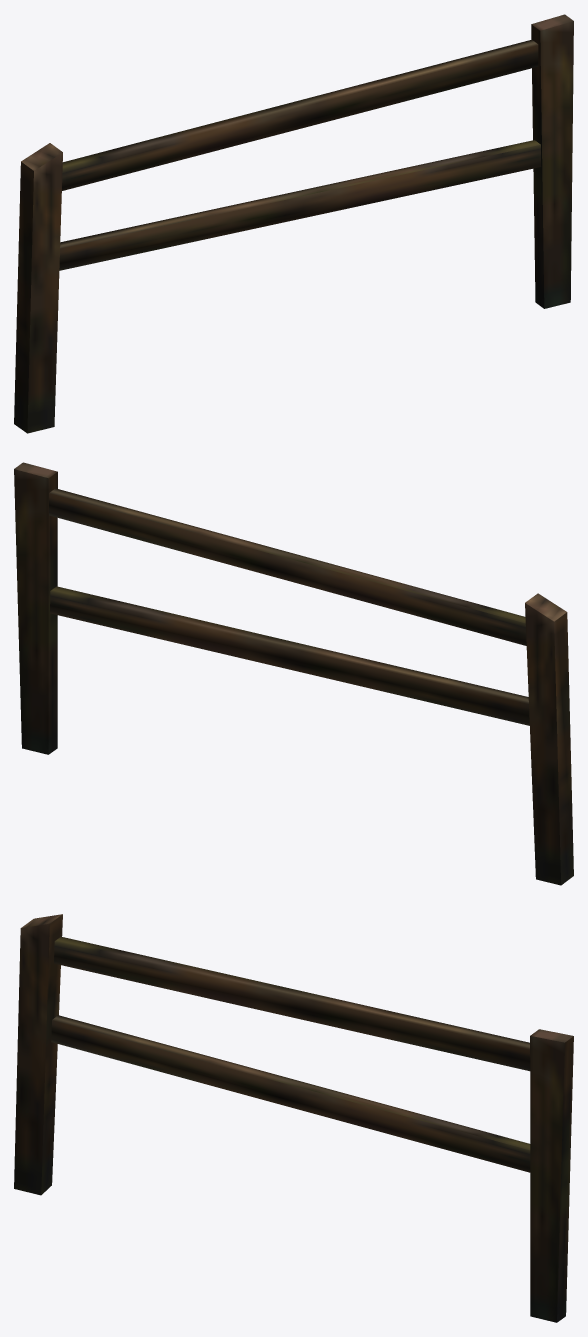
The model's file is general_obj_fence01_01.fbx.
3 views of the same model, one above another, from view 1: azimuth 30°, elevation 25°; view 2: azimuth 150°, elevation 25°; view 3: azimuth 330°, elevation 25° (orthographic).
Parts seen in each view (by area): view 1: Sphere01; view 2: Sphere01; view 3: Sphere01.
Boxes of the visible parts, <box> form: Sphere01: <box>14,14,573,433</box>; Sphere01: <box>14,462,573,885</box>; Sphere01: <box>14,914,573,1322</box>.
Size of the model in its own units: 4.44 by 2.16 by 0.2065.
